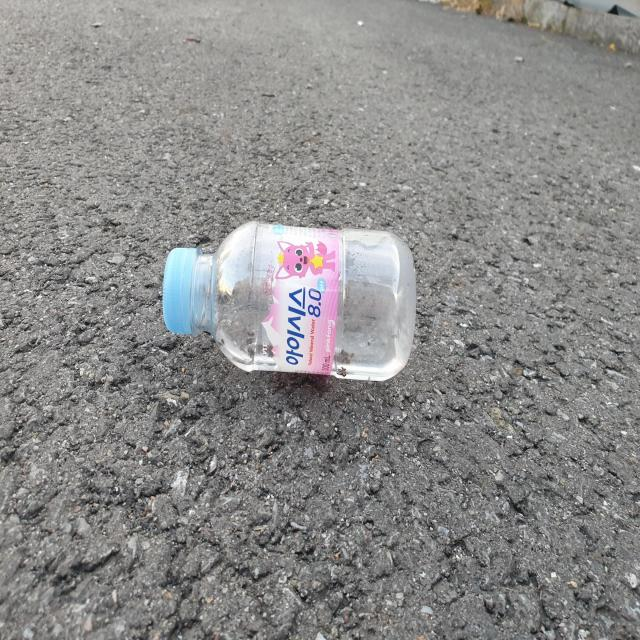plastic: (162, 221, 417, 381)
